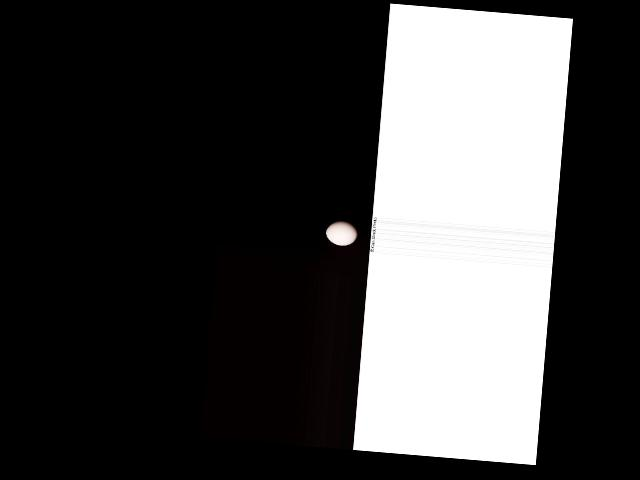egg: (325, 220, 359, 246)
